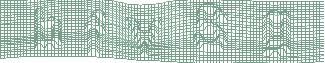S: (189, 1, 231, 54)
Y: (124, 14, 163, 62)
b: (32, 5, 63, 53)
f: (82, 7, 107, 56)
g: (261, 8, 292, 58)
